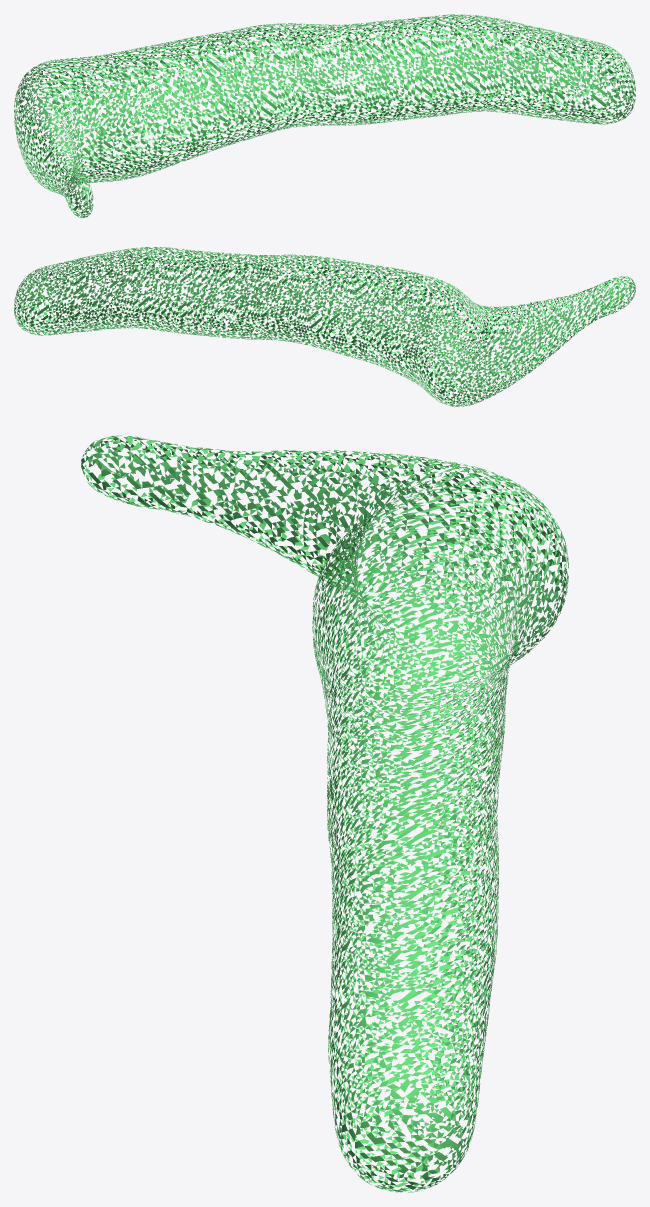
The model's file is morph_019.glb.
3 renders of one model, top to bottom at view 1: azimuth 30°, elevation 25°; view 2: azimuth 150°, elevation 25°; view 3: azimuth 270°, elevation 25°, orthographic. The views are drawn at different scales.
Bounding box in the file's own units: 132 × 34.41 × 52.05.
